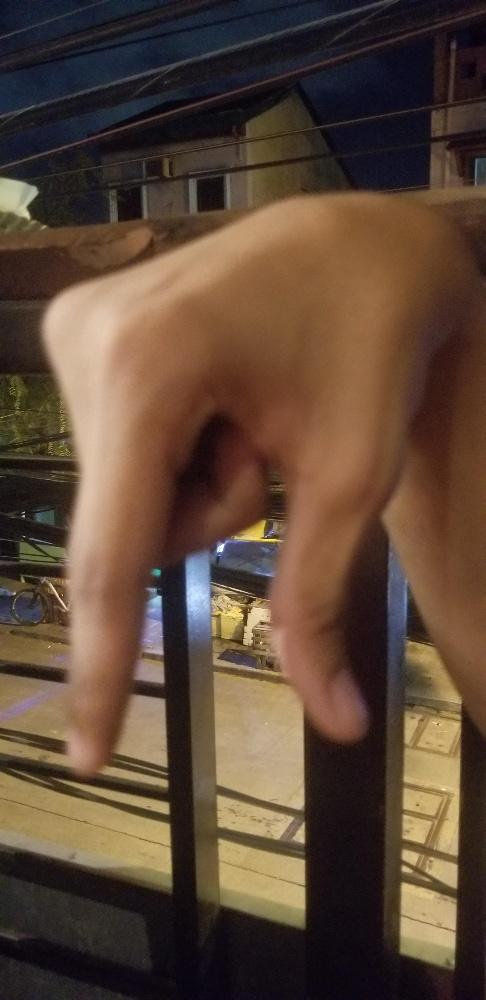q: (38, 186, 437, 776)
